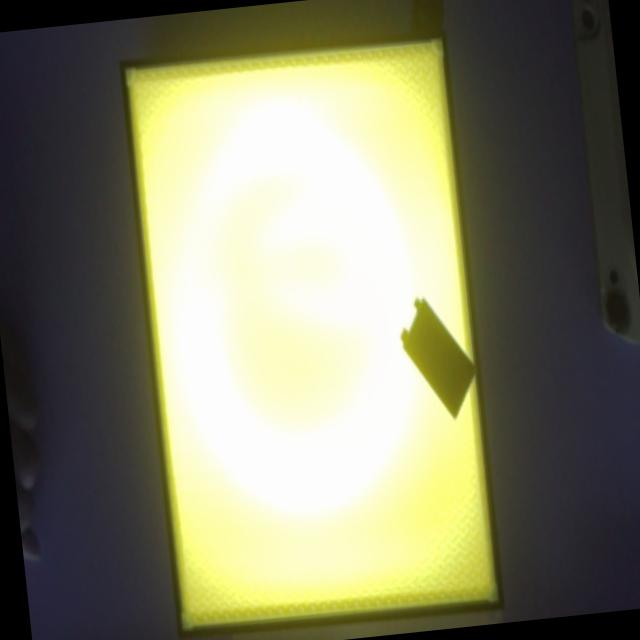bateria: (399, 295, 476, 417)
mesa: (118, 27, 507, 640)
